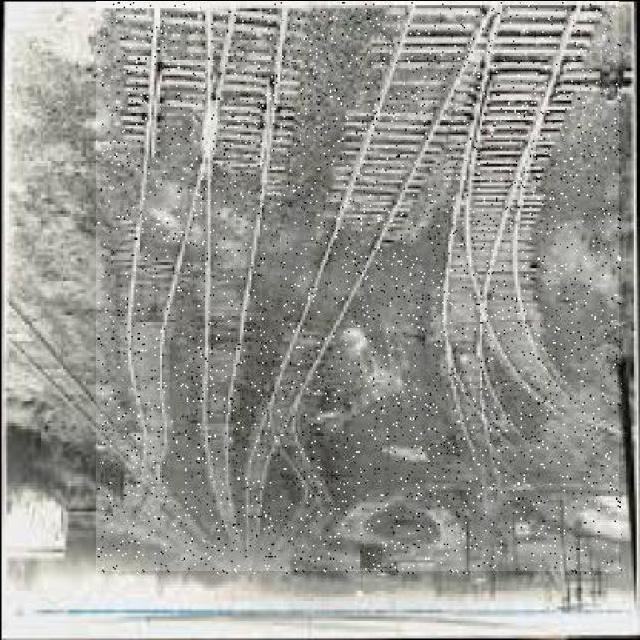rail: (98, 2, 620, 572)
